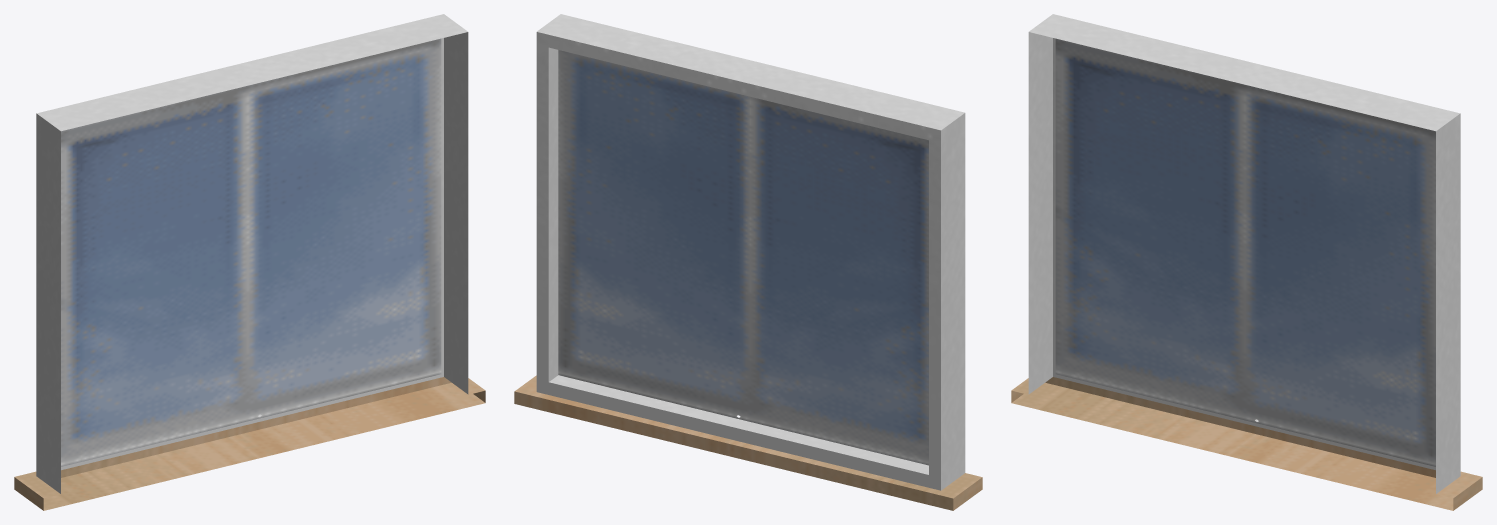
File: Bedroom_Window.fbx
3 views of the same model, side by side, from view 1: azimuth 30°, elevation 25°; view 2: azimuth 150°, elevation 25°; view 3: azimuth 330°, elevation 25° (orthographic).
Visible parts, largest first — view 1: Cube.002; view 2: Cube.002; view 3: Cube.002.
Boxes of the visible parts, left/top/right/bottom form: Cube.002: left=14, top=14, right=485, bottom=510; Cube.002: left=514, top=14, right=982, bottom=510; Cube.002: left=1011, top=14, right=1482, bottom=510.
Size of the model in its own units: 174 by 141 by 20.
